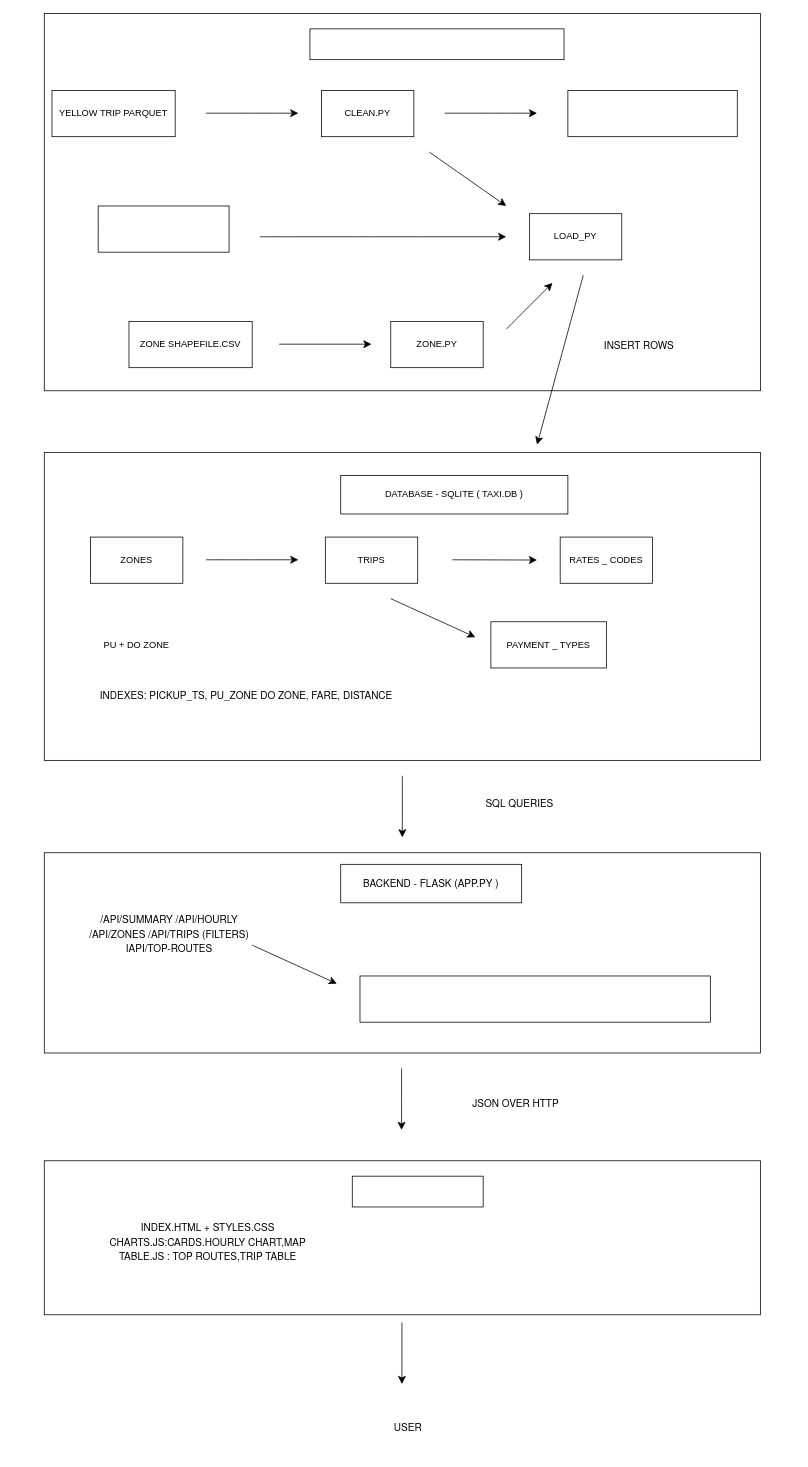
The diagram is 808 pixels wide and 1467 high, and some of its shapes have lost their labels. Here are the shapes that lost their labels. From the top down, the centre of each, then its label:
(x=436, y=44): DATA PIPELINE (RUN ONCE )
(x=652, y=113): LOGS/EXCLUDED_RECORD.CSV
(x=163, y=228): ZONE_LOOKUP.CSV
(x=534, y=998): ALGO.PY : HASH TABLE + MIN.HEAP
(x=417, y=1191): FRONTEND - BROWSER
